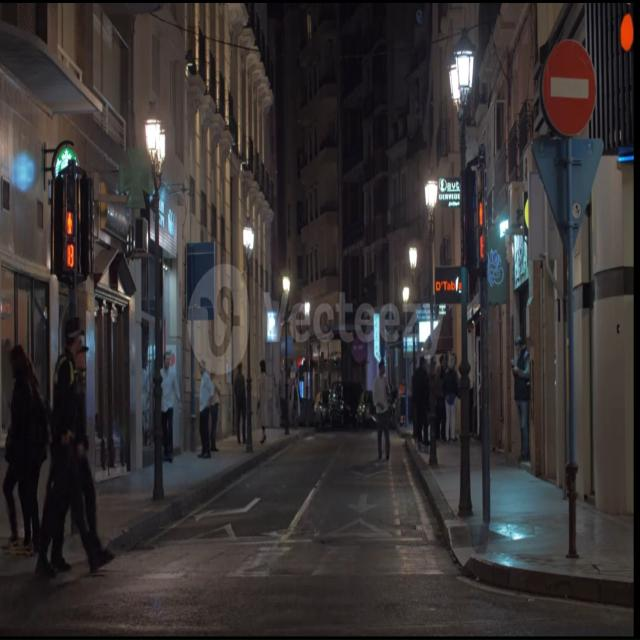pedestrian: (36, 318, 107, 577)
